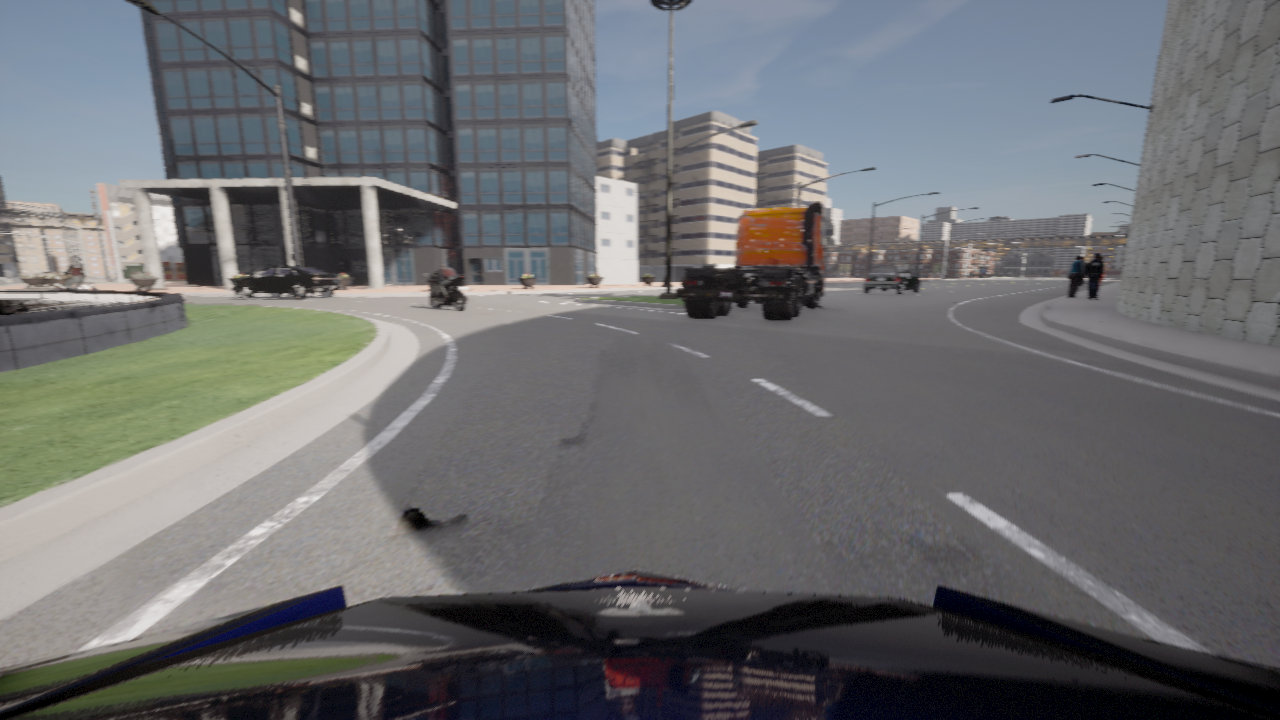cyclist: (0, 569, 1279, 719), (676, 202, 833, 321), (232, 267, 341, 299), (424, 272, 468, 311), (862, 265, 919, 294), (46, 274, 96, 289), (39, 271, 51, 274)
pedestrian: (1083, 253, 1103, 298), (1068, 257, 1087, 296), (1067, 256, 1084, 296), (1097, 257, 1106, 296), (1096, 280, 1100, 296)
